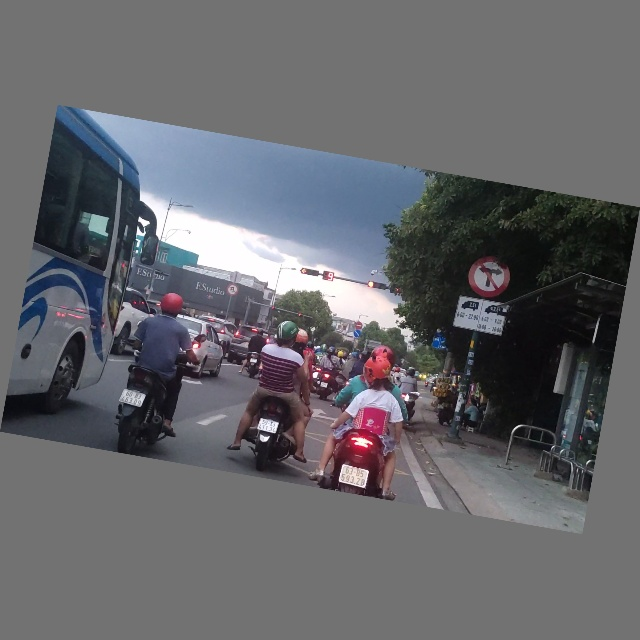P.102: (354, 322, 363, 331)
P.124a*: (225, 284, 240, 298)
P.137: (465, 252, 514, 302)
R.302a: (352, 330, 362, 339)
S.505a*Xe tai: (452, 296, 508, 338)
